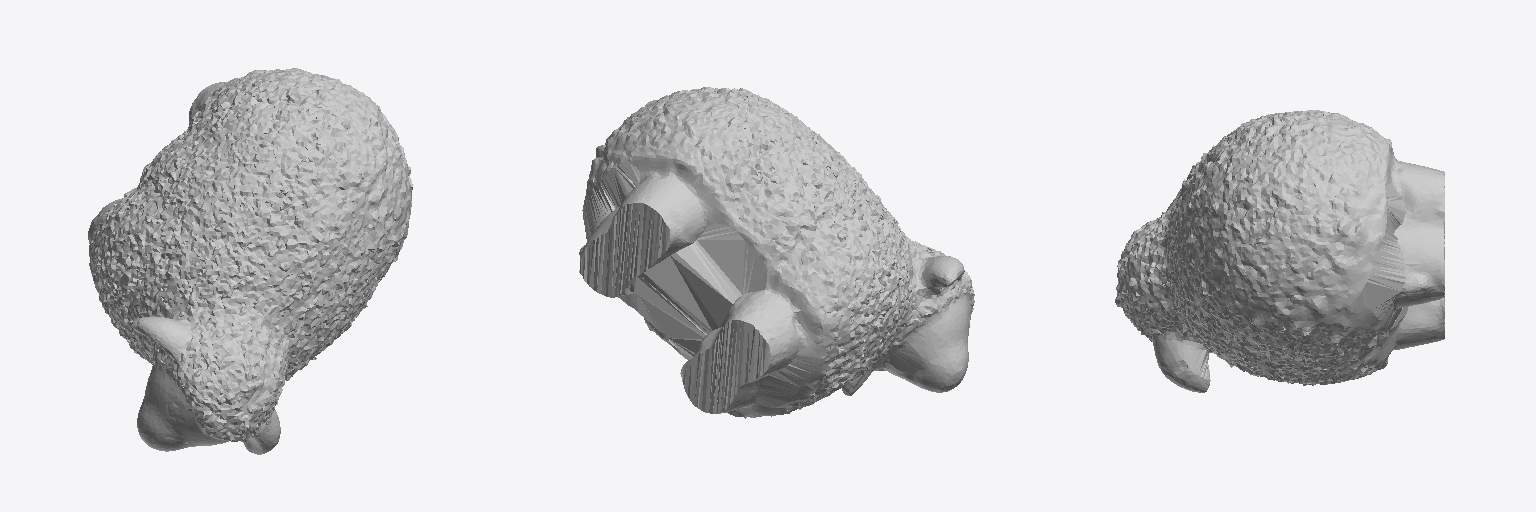
File: 208741-sheep_Clustering_50pct.obj
3 renders of one model, left to right at view 1: azimuth 30°, elevation 25°; view 2: azimuth 150°, elevation 25°; view 3: azimuth 270°, elevation 25°, orthographic.
Size of the model in its own units: 1 by 0.9656 by 0.9215.